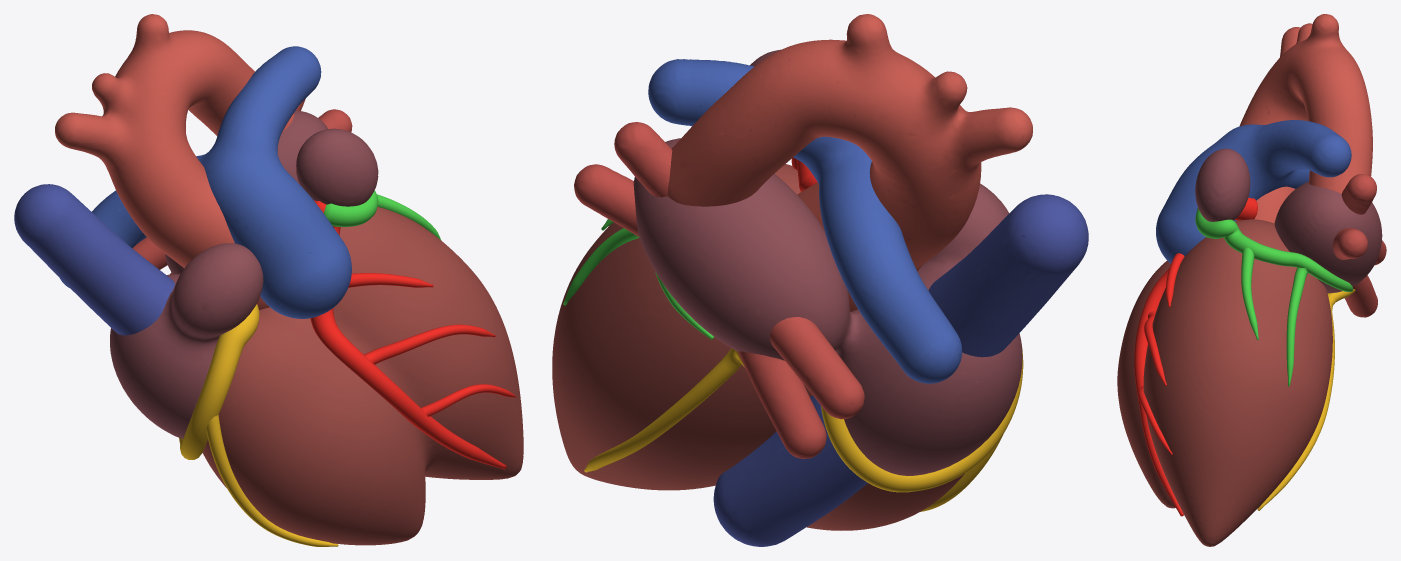
The model's file is heart.glb.
3 renders of one model, left to right at view 1: azimuth 30°, elevation 25°; view 2: azimuth 150°, elevation 25°; view 3: azimuth 270°, elevation 25°, orthographic. The views are drawn at different scales.
Parts seen in each view (by area): view 1: Ventricles, Aorta, PulmonaryTrunk, Atria, SVC, LAD, RCA, LCX, PulmonaryVeins; view 2: Atria, Aorta, Ventricles, PulmonaryTrunk, PulmonaryVeins, SVC, IVC, RCA, LCX; view 3: Ventricles, Aorta, PulmonaryTrunk, Atria, LCX, LAD, PulmonaryVeins, RCA.
Part boxes in pixels (x1,y1,x2,y2): Ventricles: (202, 207, 523, 545); Aorta: (55, 14, 294, 309); PulmonaryTrunk: (60, 46, 351, 318); Atria: (110, 110, 378, 438); SVC: (14, 184, 174, 335); LAD: (310, 200, 516, 469); RCA: (179, 304, 338, 546); LCX: (324, 190, 441, 240); PulmonaryVeins: (132, 98, 352, 274); Atria: (633, 49, 1022, 475); Aorta: (667, 14, 1032, 311); Ventricles: (552, 164, 964, 530); PulmonaryTrunk: (648, 59, 962, 383); PulmonaryVeins: (574, 122, 864, 458); SVC: (928, 194, 1088, 357); IVC: (713, 395, 867, 546); RCA: (584, 344, 1023, 511); LCX: (563, 219, 713, 339); Ventricles: (1117, 219, 1332, 546); Aorta: (1239, 14, 1372, 223); PulmonaryTrunk: (1156, 120, 1351, 263); Atria: (1195, 148, 1382, 293); LCX: (1195, 208, 1353, 386); LAD: (1134, 197, 1257, 516); PulmonaryVeins: (1332, 174, 1386, 317); RCA: (1257, 289, 1355, 510).
Size of the model in its own units: 1.31 by 1.38 by 0.7911.
